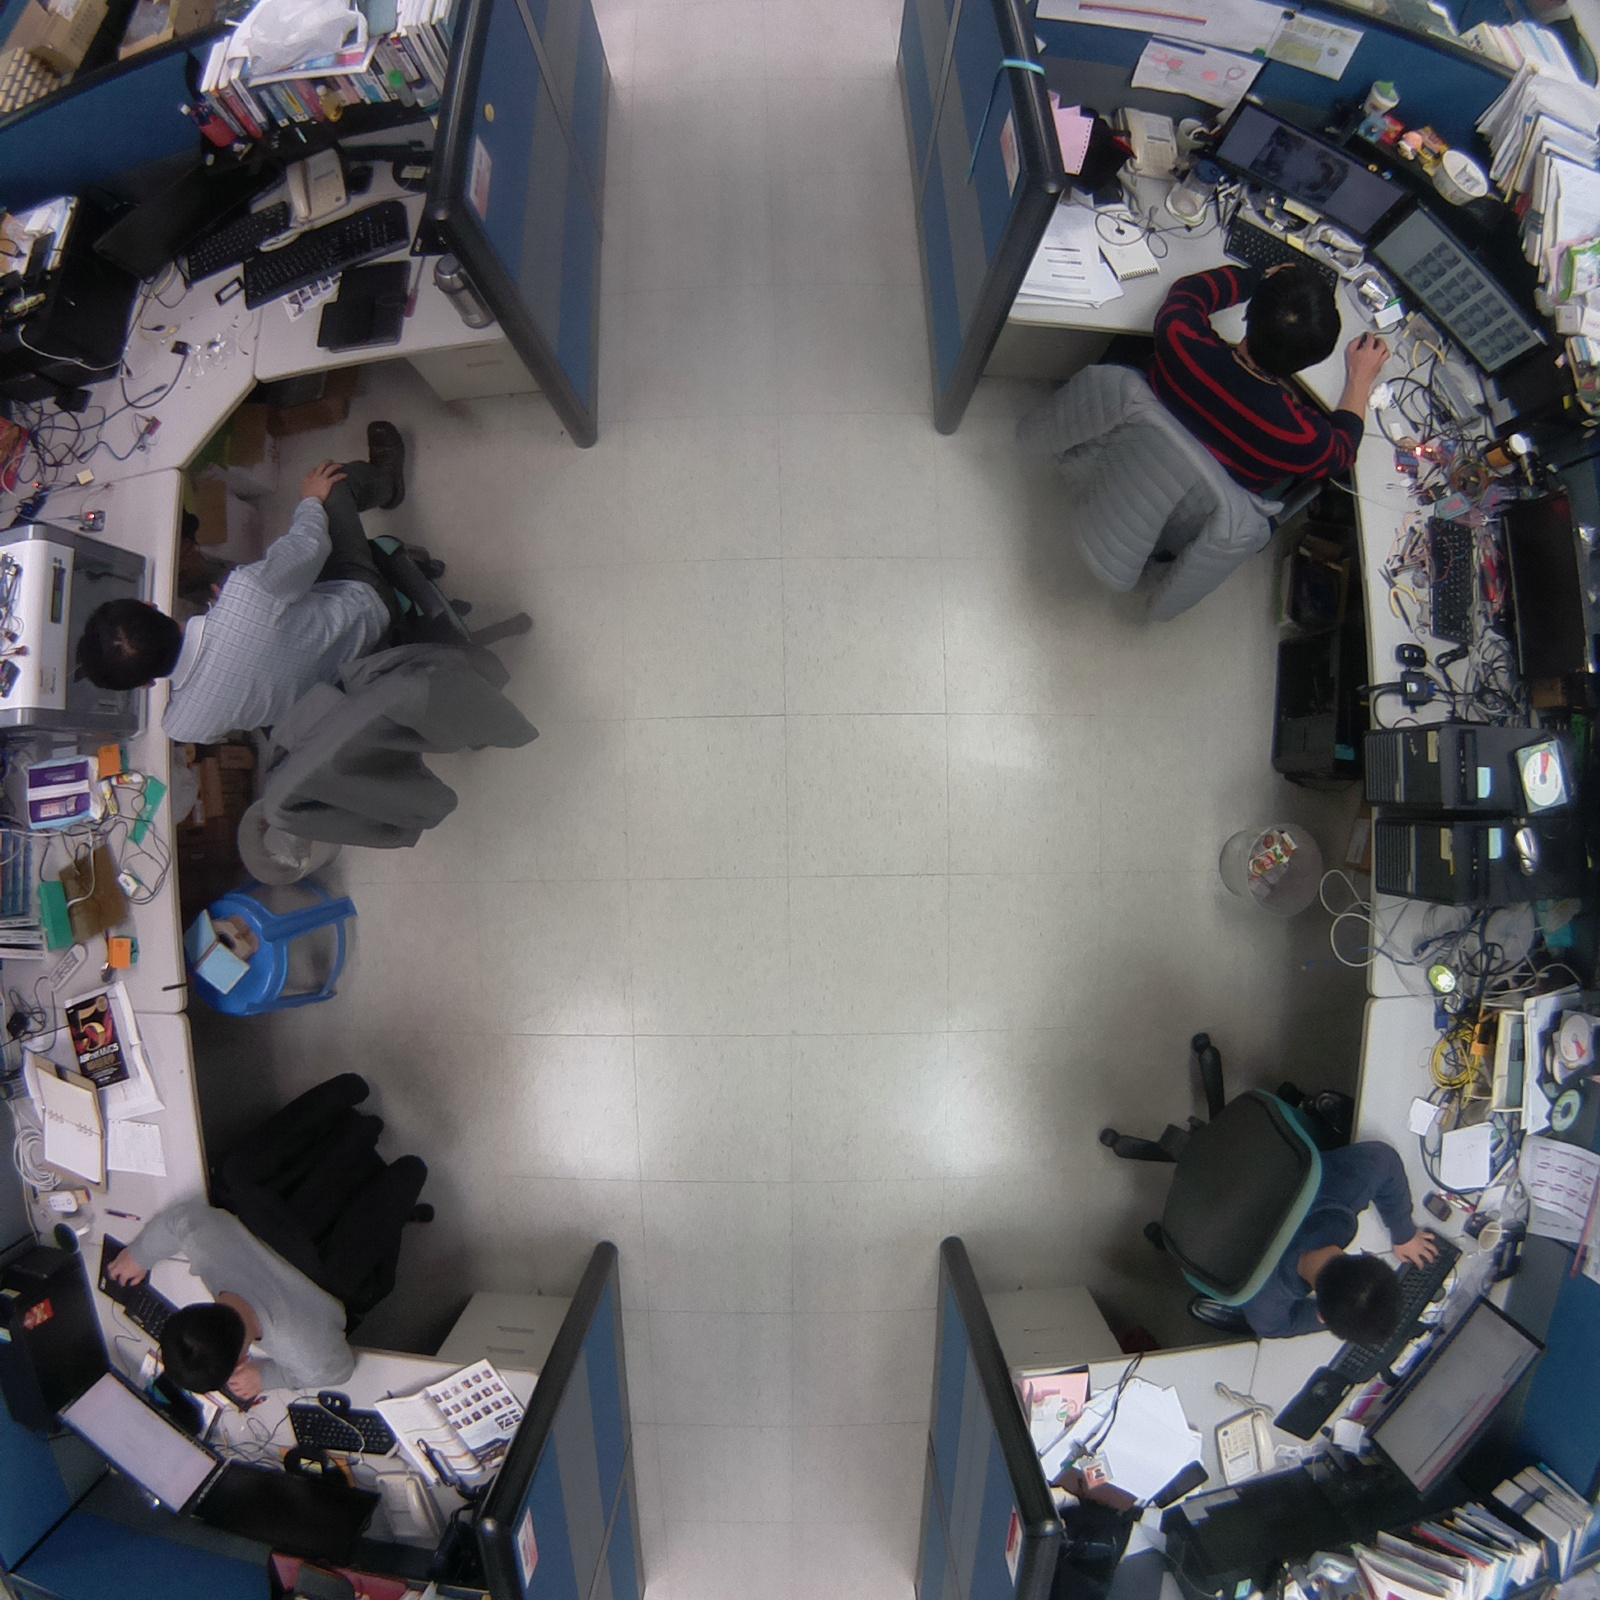head: (1240, 257, 1344, 378), (72, 593, 187, 697), (1302, 1246, 1410, 1353), (153, 1293, 253, 1400)
sitting: (64, 399, 578, 901), (1001, 246, 1391, 647), (1076, 1014, 1444, 1363), (96, 1047, 455, 1404)
